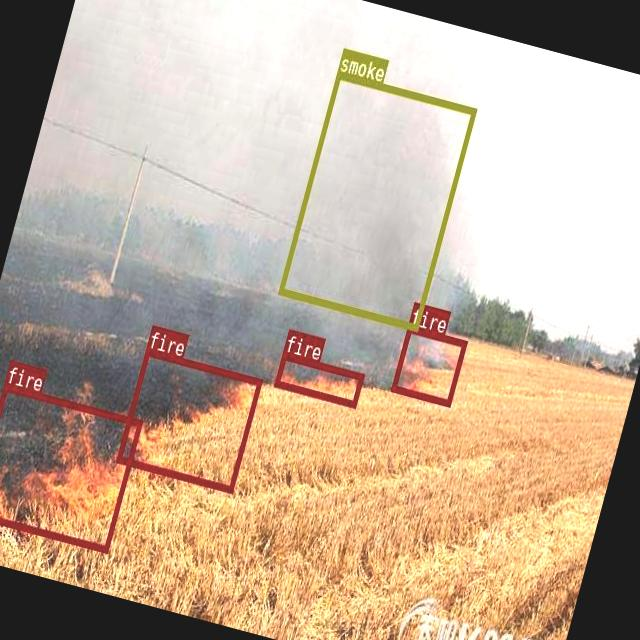fire: (0, 382, 142, 551), (116, 348, 262, 492), (389, 324, 466, 405), (274, 351, 364, 406)
smoke: (277, 70, 476, 330)
